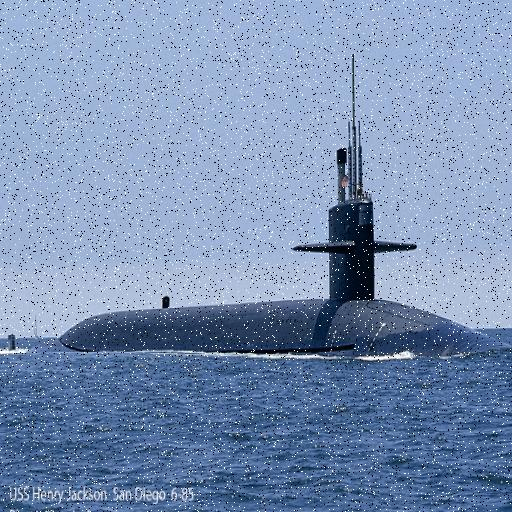submarine: (5, 41, 512, 354)
